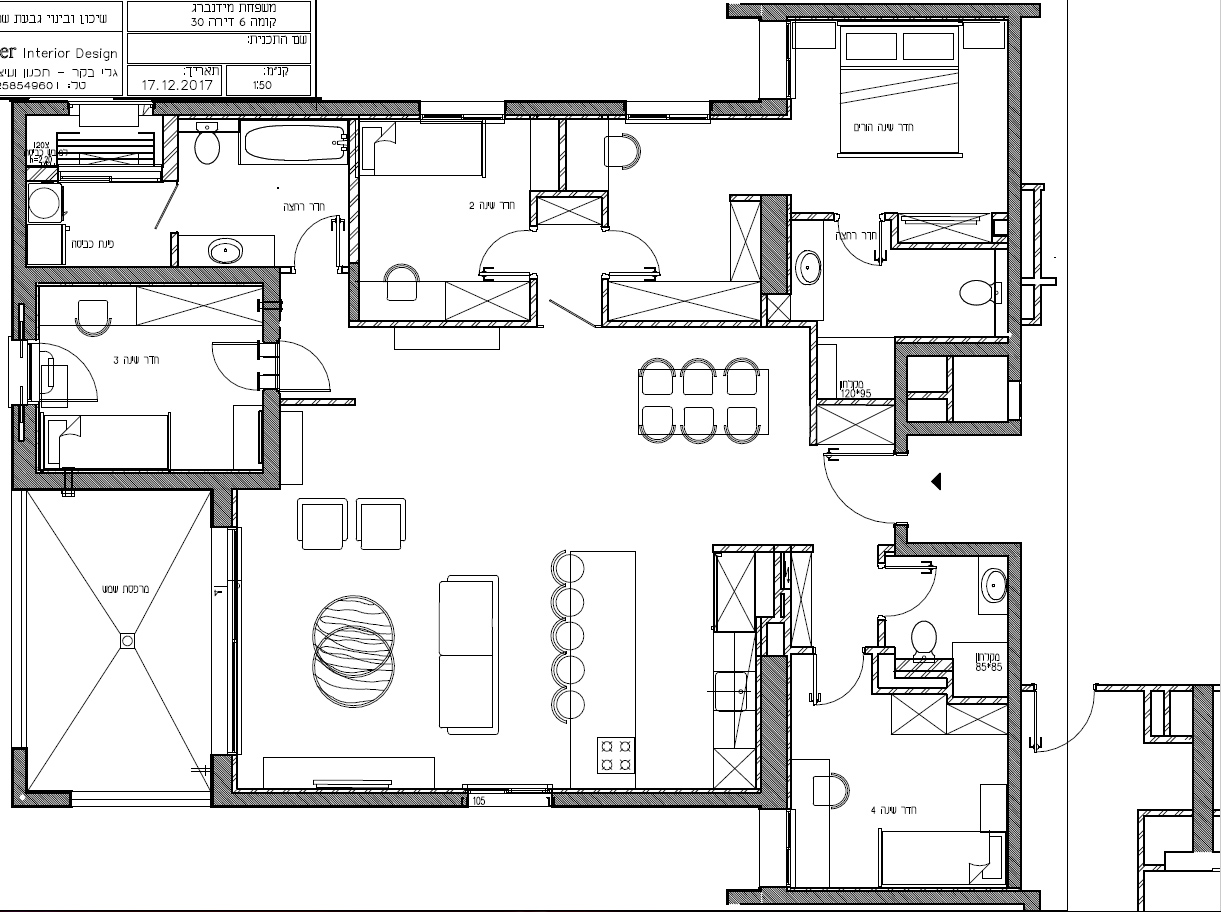door: (817, 447, 891, 533), (1028, 696, 1093, 761), (286, 207, 343, 264), (467, 225, 524, 282), (613, 224, 670, 281), (884, 562, 941, 619)
wall: (1005, 541, 1020, 892), (209, 791, 464, 807), (549, 791, 790, 807), (14, 472, 279, 486), (12, 268, 277, 282), (153, 100, 418, 114)
window: (209, 525, 241, 754), (421, 99, 506, 123), (625, 101, 710, 125), (466, 786, 551, 810)
